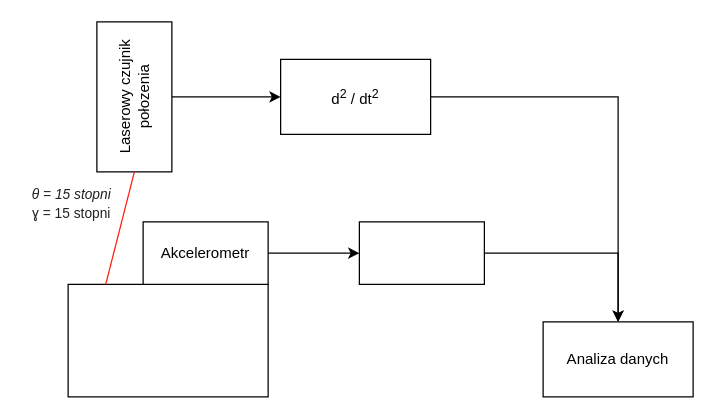
Some shapes in this 715 by 419 pixel diagram are drawn without their labels. The shapes that lost their labels are listed below. From the top down, each one's centre as x and y in pixels, then its label:
pixel 421 252: obrót 0,25 0,25 1
pixel 167 340: Obiekt
